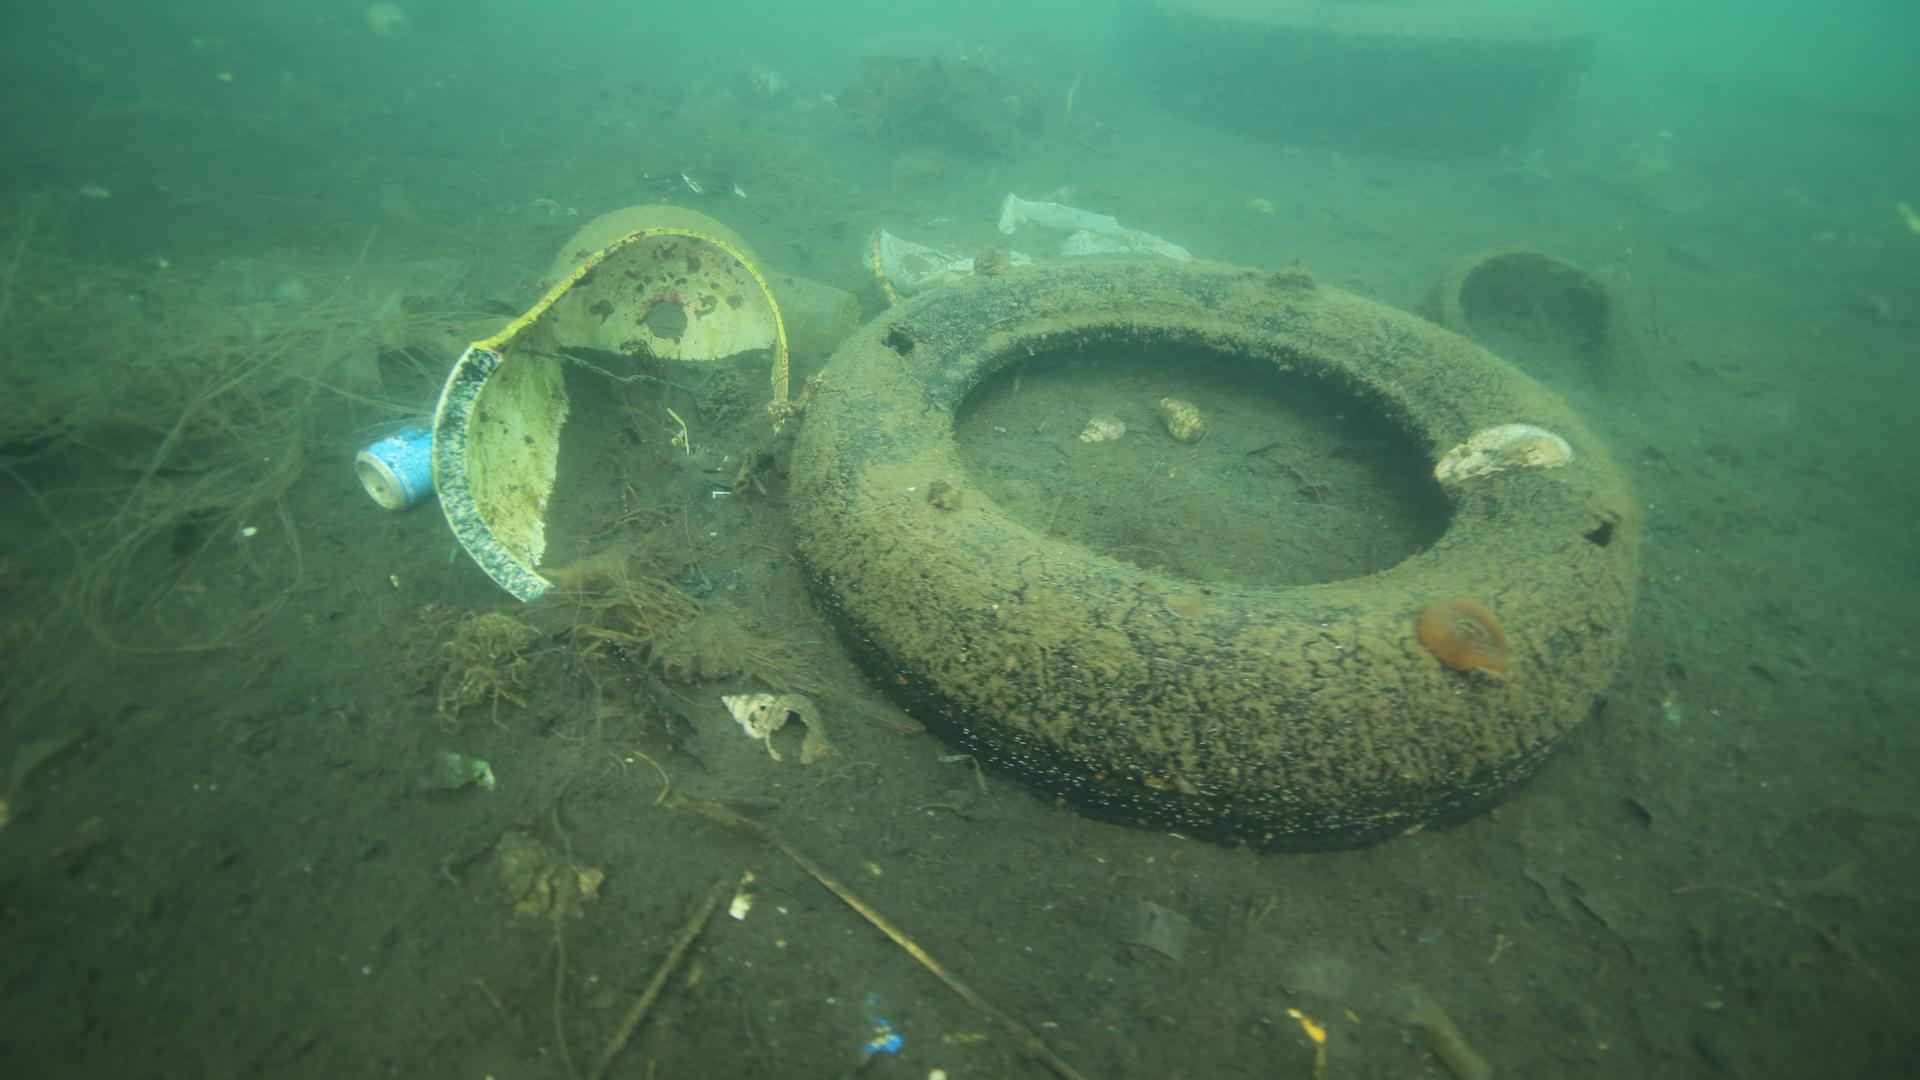tire: (783, 249, 1642, 835)
